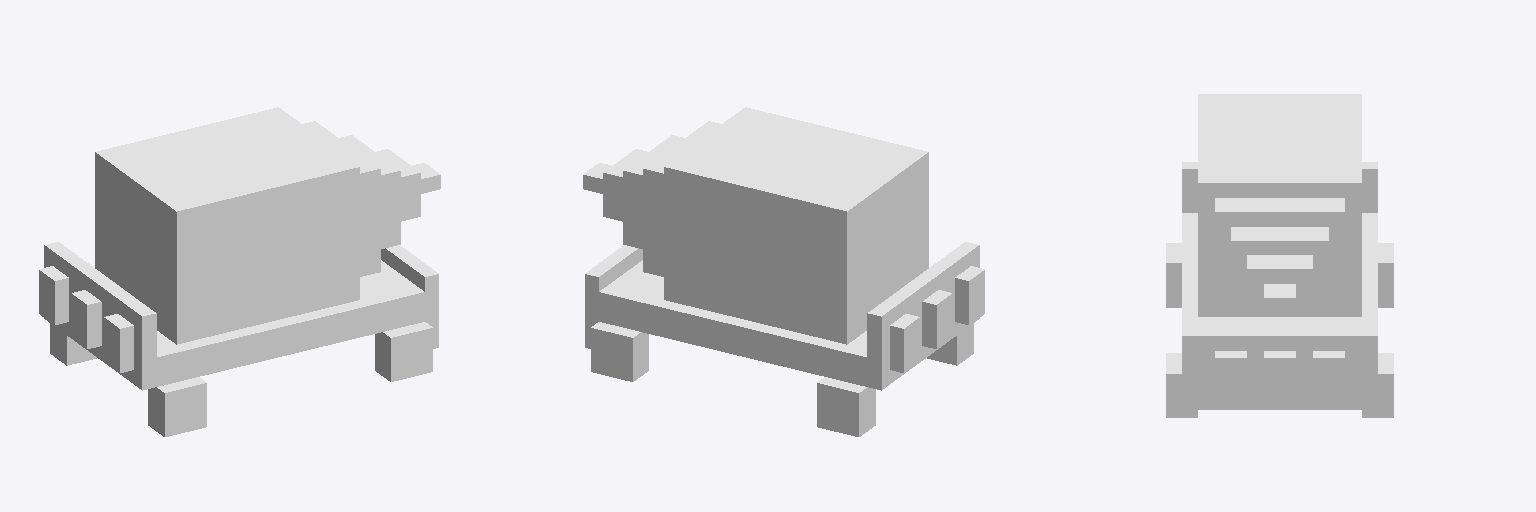
Rendered from chispitas.obj.
3 views of the same model, side by side, from view 1: azimuth 30°, elevation 25°; view 2: azimuth 150°, elevation 25°; view 3: azimuth 270°, elevation 25° (orthographic).
Visible parts, largest first — view 1: chispitas; view 2: chispitas; view 3: chispitas.
Part boxes in pixels (bbox=[...]): chispitas: bbox=[39, 107, 440, 436]; chispitas: bbox=[583, 107, 984, 436]; chispitas: bbox=[1166, 94, 1393, 417].
Size of the model in its own units: 43.69 by 24.47 by 24.47.